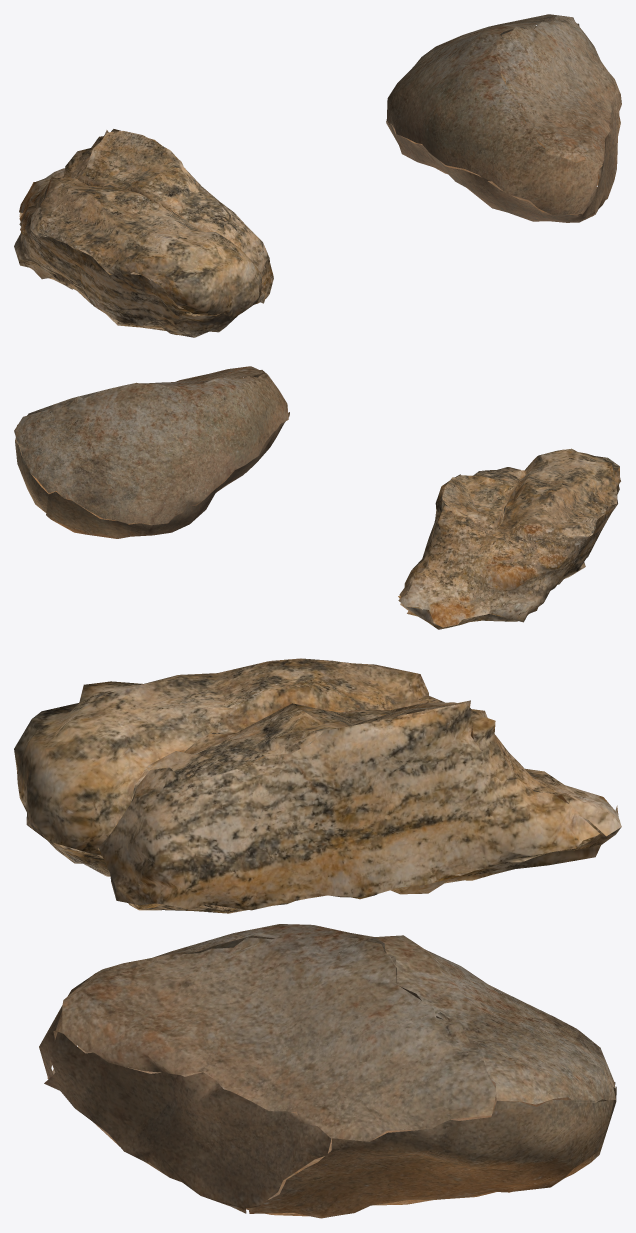
The model's file is namaqualand_boulders_01_lod1.glb.
3 views of the same model, one above another, from view 1: azimuth 30°, elevation 25°; view 2: azimuth 150°, elevation 25°; view 3: azimuth 270°, elevation 25° (orthographic). The views are drawn at different scales.
Parts seen in each view (by area): view 1: namaqualand_rocks_01_a, namaqualand_rocks_01_b; view 2: namaqualand_rocks_01_a, namaqualand_rocks_01_b; view 3: namaqualand_rocks_01_a, namaqualand_rocks_01_b.
Boxes of the visible parts, x1,y1,x2,y2 form: namaqualand_rocks_01_a: (386, 14, 621, 222); namaqualand_rocks_01_b: (14, 129, 273, 337); namaqualand_rocks_01_a: (14, 366, 289, 538); namaqualand_rocks_01_b: (398, 448, 620, 629); namaqualand_rocks_01_a: (39, 924, 616, 1218); namaqualand_rocks_01_b: (14, 658, 621, 913).
Bounding box in the file's own units: 1.06 × 0.2515 × 0.5828.
Materials: 1 (1 with a texture image).
